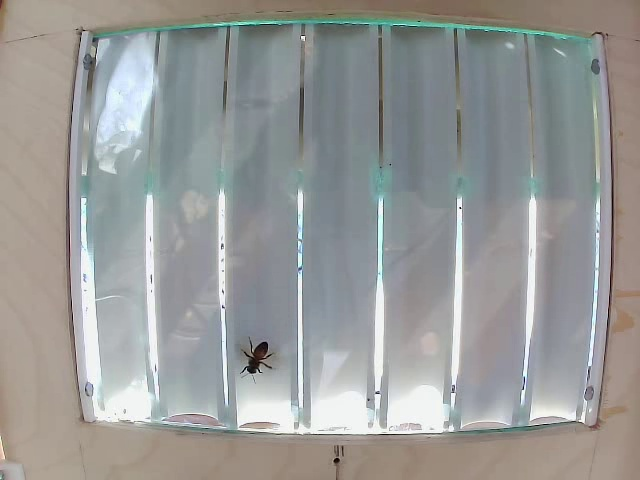bee: (235, 339, 271, 369)
